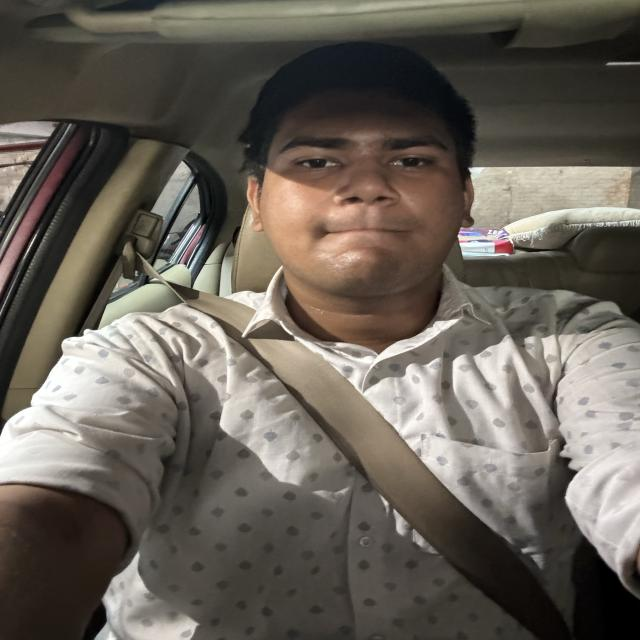seatbelt: (27, 272, 620, 636)
